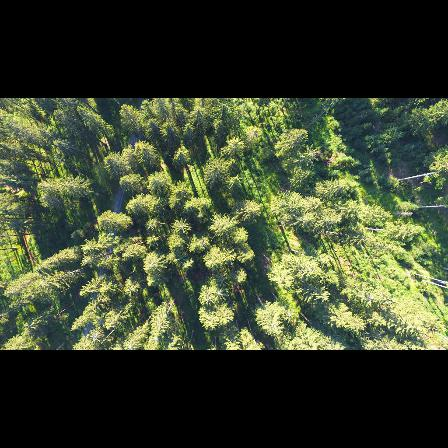Sick: (172, 217, 190, 234), (212, 272, 231, 286), (211, 287, 230, 301), (199, 291, 216, 306)
